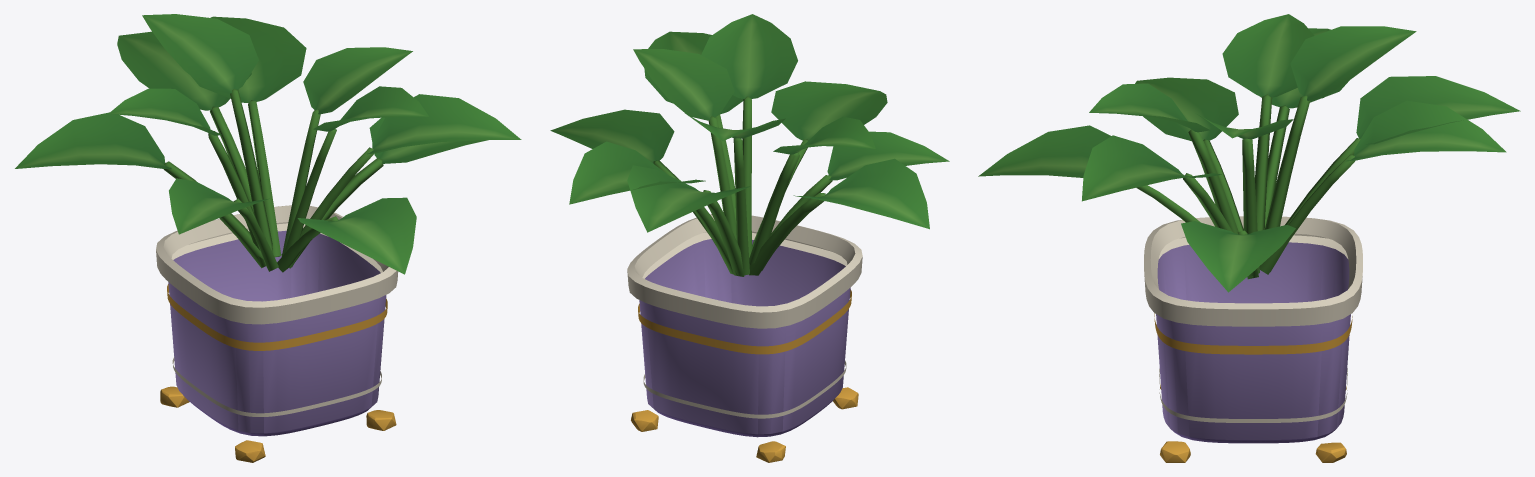
Rendered from potted_leafy_square.glb.
The picture shows the model from 3 angles, left to right: view 1: azimuth 30°, elevation 25°; view 2: azimuth 150°, elevation 25°; view 3: azimuth 270°, elevation 25°; orthographic projection. The views are drawn at different scales.
Parts seen in each view (by area): view 1: potted_leafy_square; view 2: potted_leafy_square; view 3: potted_leafy_square.
Boxes of the visible parts, left/top/right/bottom form: potted_leafy_square: left=15, top=14, right=521, bottom=462; potted_leafy_square: left=550, top=14, right=949, bottom=462; potted_leafy_square: left=978, top=14, right=1520, bottom=462.
Bounding box in the file's own units: 0.9091 × 0.7005 × 0.941.
